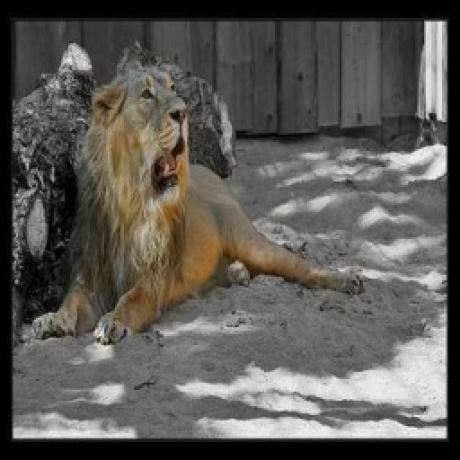Lion: (32, 61, 364, 344)
